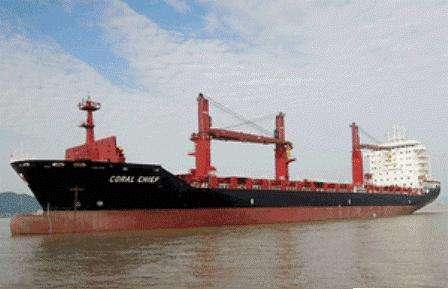Cargoship: (10, 93, 437, 229)
